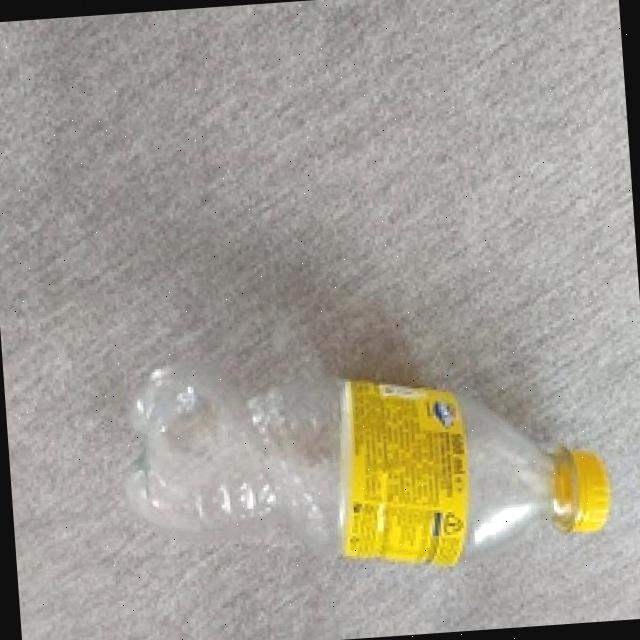bottle: (68, 262, 636, 633)
cap: (550, 448, 617, 539)
label: (338, 376, 469, 582)
